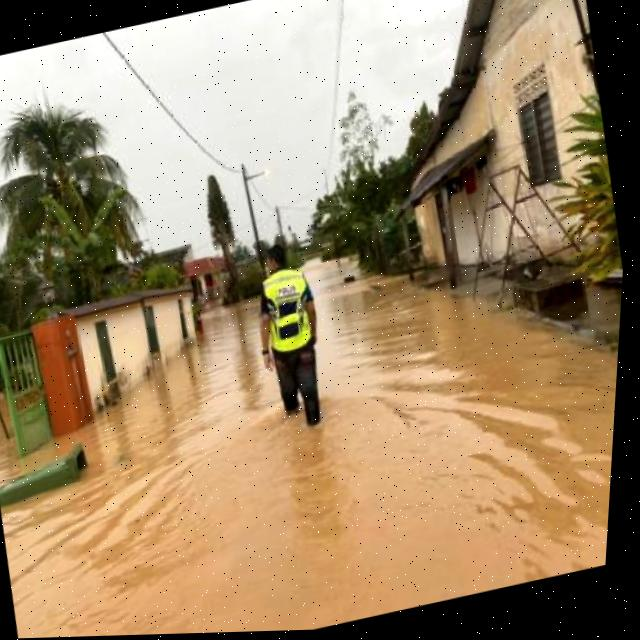rescuer: (233, 232, 353, 452)
